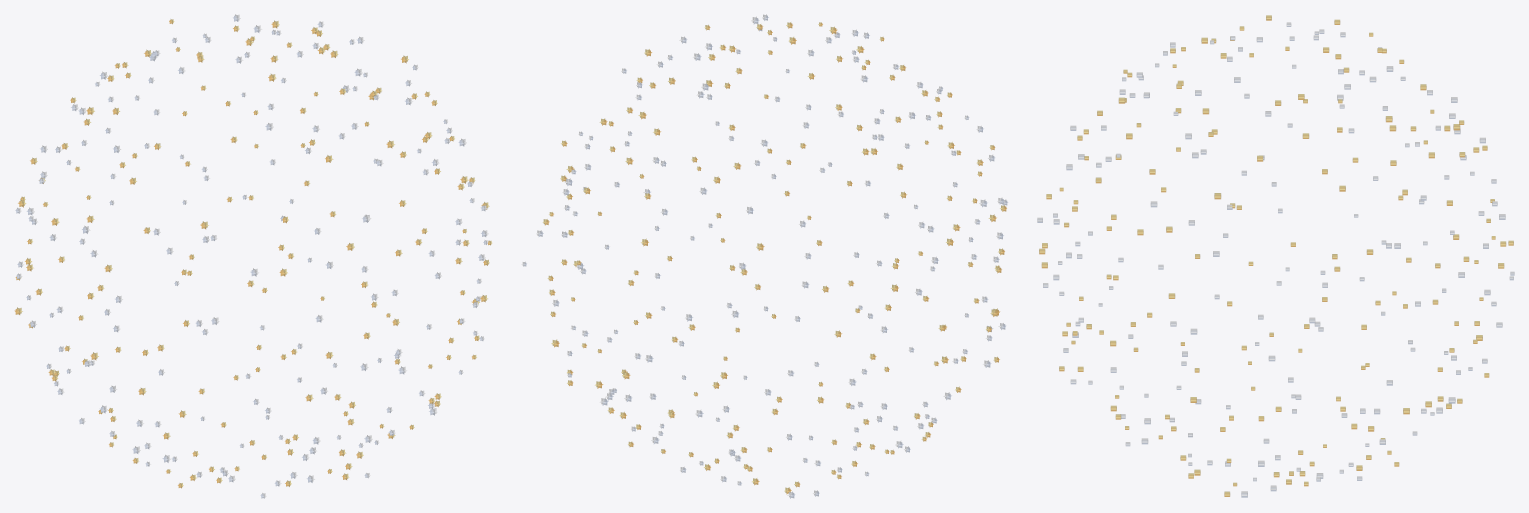
File: fw_peony_teal_silver_c.glb
3 renders of one model, left to right at view 1: azimuth 30°, elevation 25°; view 2: azimuth 150°, elevation 25°; view 3: azimuth 270°, elevation 25°, orthographic.
Parts seen in each view (by area): view 1: spire; view 2: spire; view 3: spire.
Part boxes in pixels (left/top/right/bottom): spire: left=14, top=14, right=492, bottom=498; spire: left=522, top=14, right=1007, bottom=498; spire: left=1037, top=15, right=1514, bottom=497.
Bounding box in the file's own units: 23.86 × 23.43 × 23.53.
Materials: 2 (2 with a texture image).
